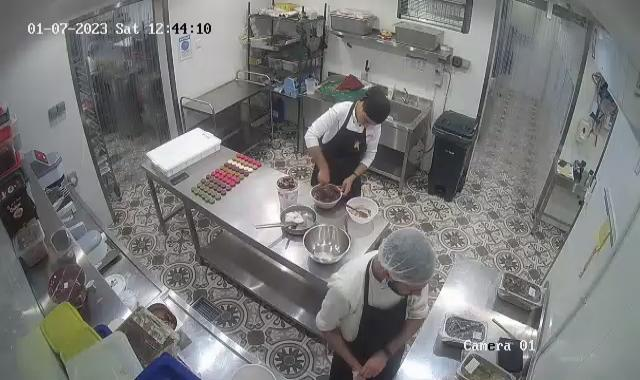hairnet: (383, 224, 436, 296)
no_hairnet: (357, 92, 391, 127)
